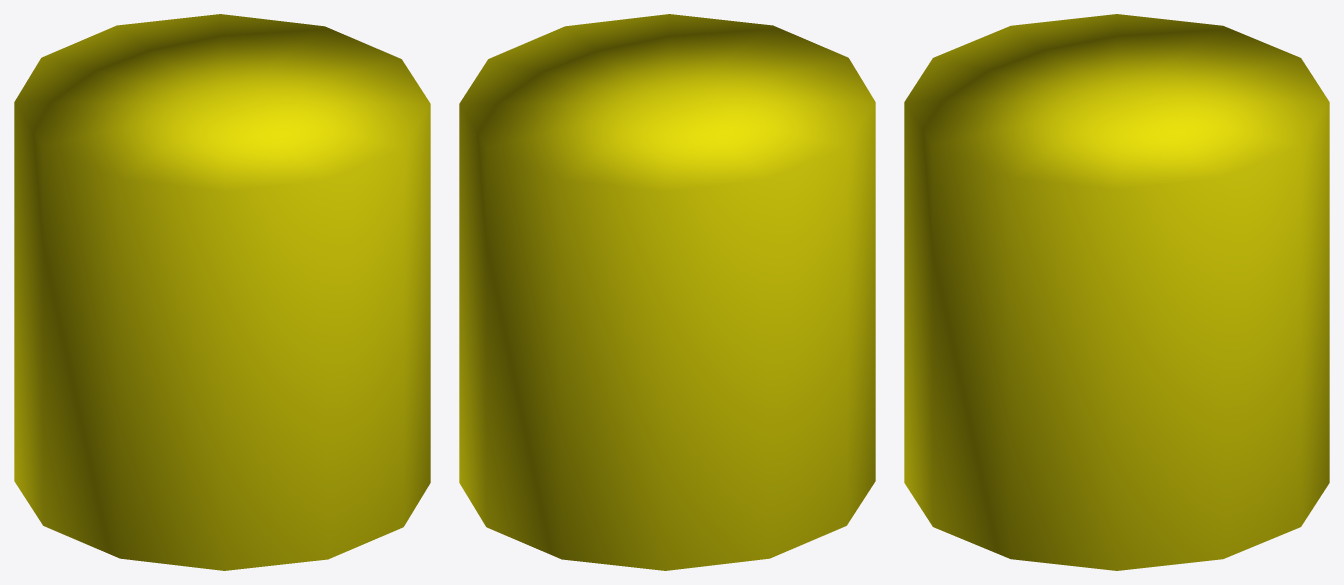
Rendered from Wide_Cabinet_Leg_Base_A.fbx.
3 views of the same model, side by side, from view 1: azimuth 30°, elevation 25°; view 2: azimuth 150°, elevation 25°; view 3: azimuth 270°, elevation 25° (orthographic).
Parts seen in each view (by area): view 1: Wide_Cabinet_Leg_Base_A; view 2: Wide_Cabinet_Leg_Base_A; view 3: Wide_Cabinet_Leg_Base_A.
Part boxes in pixels (box(x1,y1,x2,y2)): Wide_Cabinet_Leg_Base_A: box(14, 14, 430, 570); Wide_Cabinet_Leg_Base_A: box(459, 14, 875, 570); Wide_Cabinet_Leg_Base_A: box(904, 14, 1329, 570).
Bounding box in the file's own units: 1.89 × 1.91 × 1.93.
